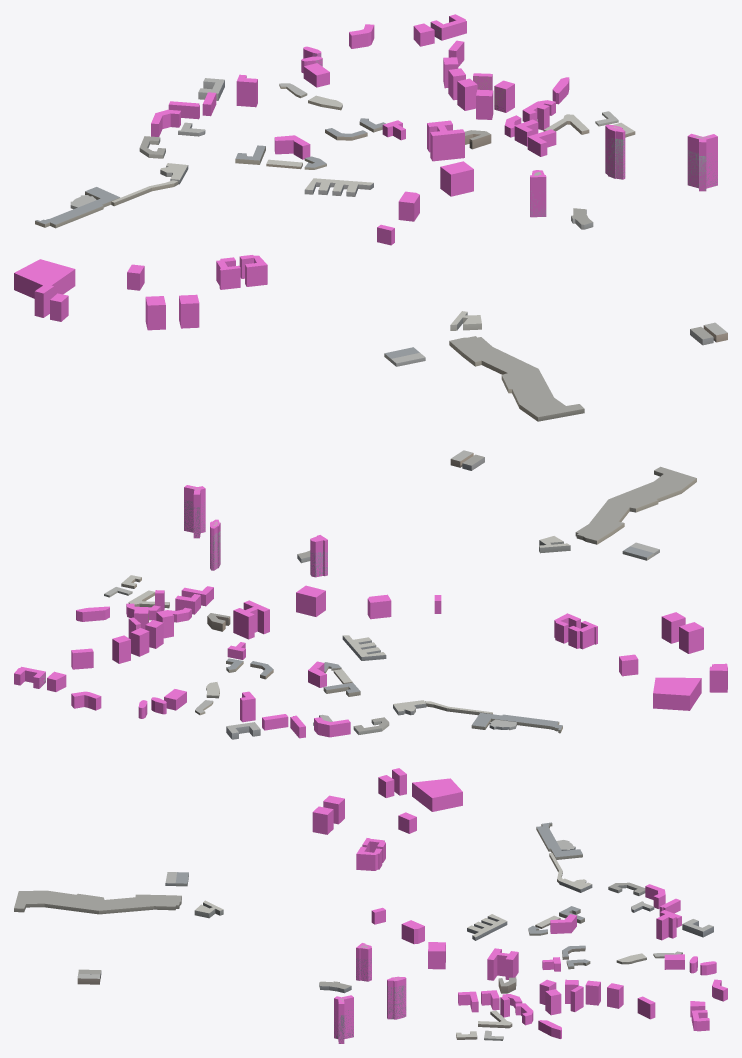
The model's file is bld_10_1.fbx.
The picture shows the model from 3 angles, top to bottom: view 1: azimuth 30°, elevation 25°; view 2: azimuth 150°, elevation 25°; view 3: azimuth 270°, elevation 25°; orthographic projection. The views are drawn at different scales.
Visible parts, largest first — view 1: bld_10_1_COL, bld_10_1_LOD0; view 2: bld_10_1_COL, bld_10_1_LOD0; view 3: bld_10_1_COL, bld_10_1_LOD0.
Boxes of the visible parts, x1,y1,x2,y2 form: bld_10_1_COL: (14, 14, 717, 330); bld_10_1_LOD0: (35, 23, 727, 421); bld_10_1_COL: (14, 485, 727, 738); bld_10_1_LOD0: (40, 450, 696, 739); bld_10_1_COL: (312, 768, 727, 1043); bld_10_1_LOD0: (14, 822, 713, 1043).
Size of what is drawn, in the model's own units: 1855 by 135 by 2187.
